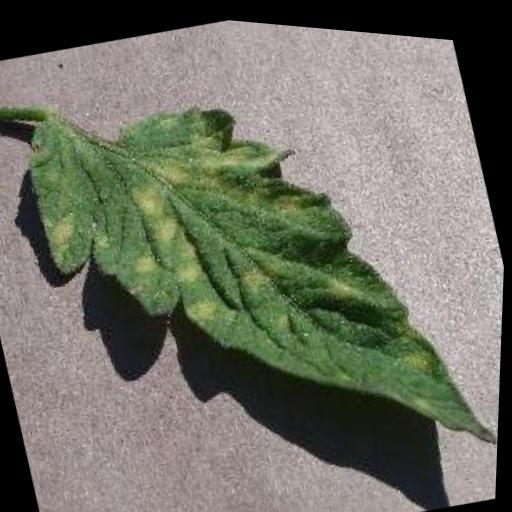Leaf Mold: (8, 27, 511, 512)
